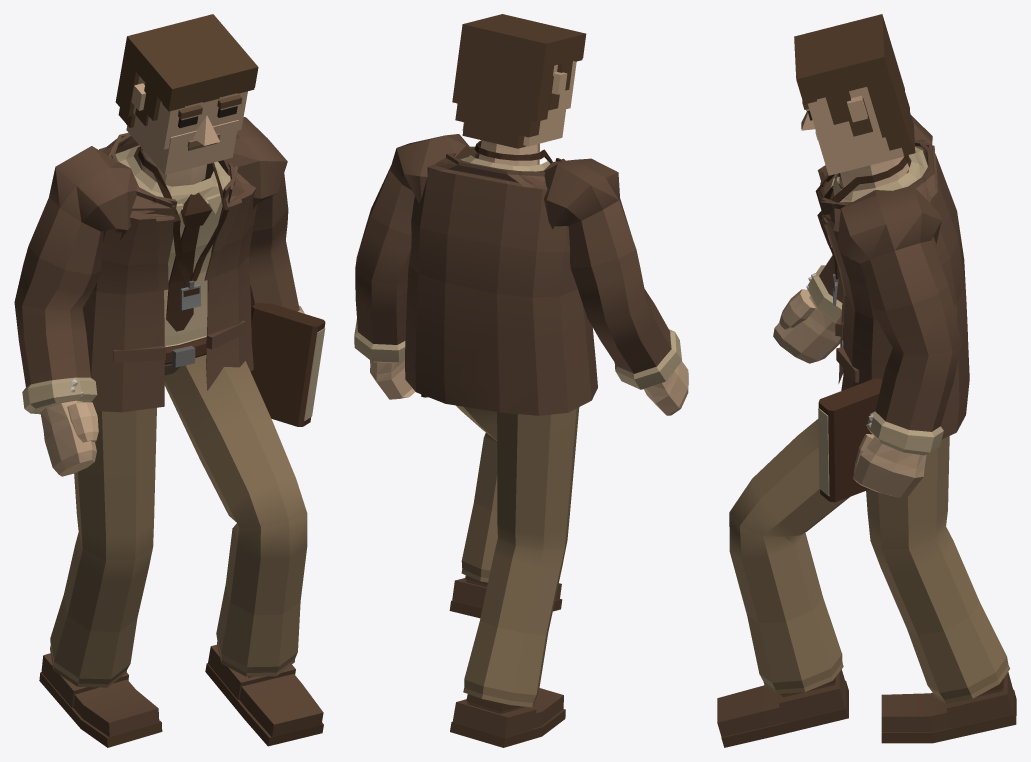
The model's file is school-teacher-8b8bfc__walk7.glb.
3 views of the same model, side by side, from view 1: azimuth 30°, elevation 25°; view 2: azimuth 150°, elevation 25°; view 3: azimuth 270°, elevation 25° (orthographic). The views are drawn at different scales.
Visible parts, largest first — view 1: school-teacher-8b8bfc__walk7; view 2: school-teacher-8b8bfc__walk7; view 3: school-teacher-8b8bfc__walk7.
Boxes of the visible parts, x1,y1,x2,y2 form: school-teacher-8b8bfc__walk7: [14, 14, 325, 747]; school-teacher-8b8bfc__walk7: [354, 14, 688, 747]; school-teacher-8b8bfc__walk7: [717, 14, 1016, 747].
Bounding box in the file's own units: 0.783 × 1.72 × 0.6517.
